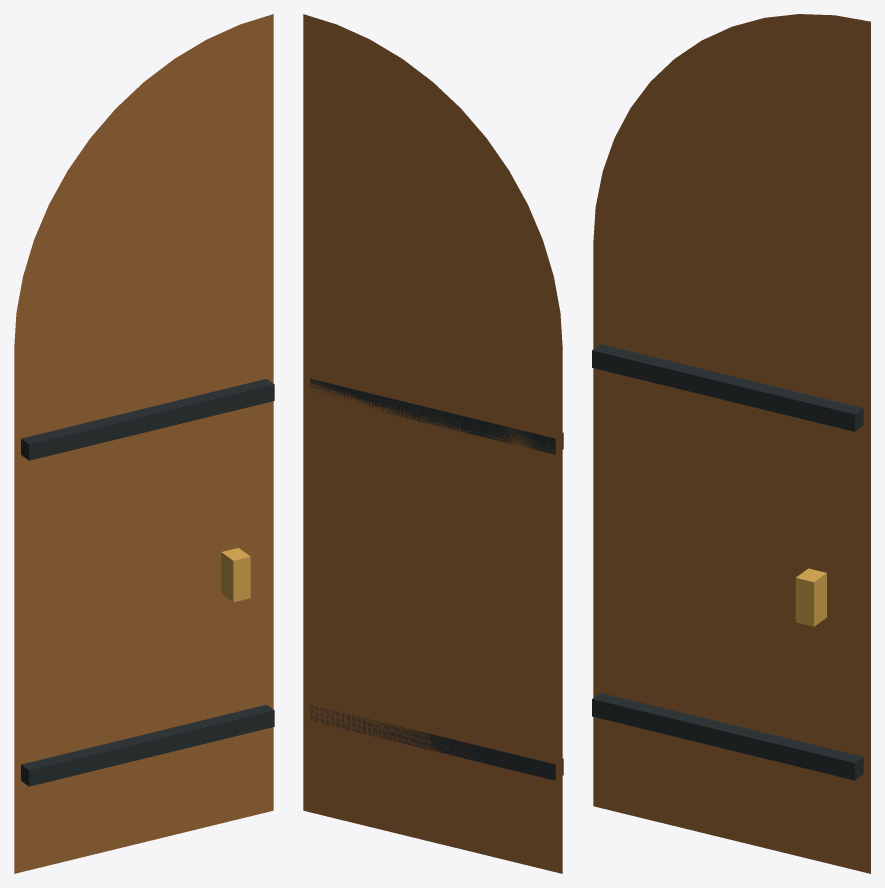
The model's file is SM_Guild_DoorLeft_Detailed.fbx.
3 views of the same model, side by side, from view 1: azimuth 30°, elevation 25°; view 2: azimuth 150°, elevation 25°; view 3: azimuth 330°, elevation 25° (orthographic). The views are drawn at different scales.
Parts seen in each view (by area): view 1: DoorLeft, DoorStrap, DoorStrap.001, DoorHandle; view 2: DoorLeft, DoorStrap, DoorStrap.001; view 3: DoorLeft, DoorStrap, DoorStrap.001, DoorHandle.
Boxes of the visible parts, <box> form: DoorLeft: <box>14,14,273,873</box>; DoorStrap: <box>21,704,274,786</box>; DoorStrap.001: <box>21,378,274,460</box>; DoorHandle: <box>221,548,250,602</box>; DoorLeft: <box>303,14,562,873</box>; DoorStrap: <box>310,705,563,780</box>; DoorStrap.001: <box>310,378,563,454</box>; DoorLeft: <box>593,14,870,873</box>; DoorStrap: <box>592,693,863,780</box>; DoorStrap.001: <box>592,344,863,431</box>; DoorHandle: <box>795,568,826,626</box>.
Bounding box in the file's own units: 150 × 15 × 440.
